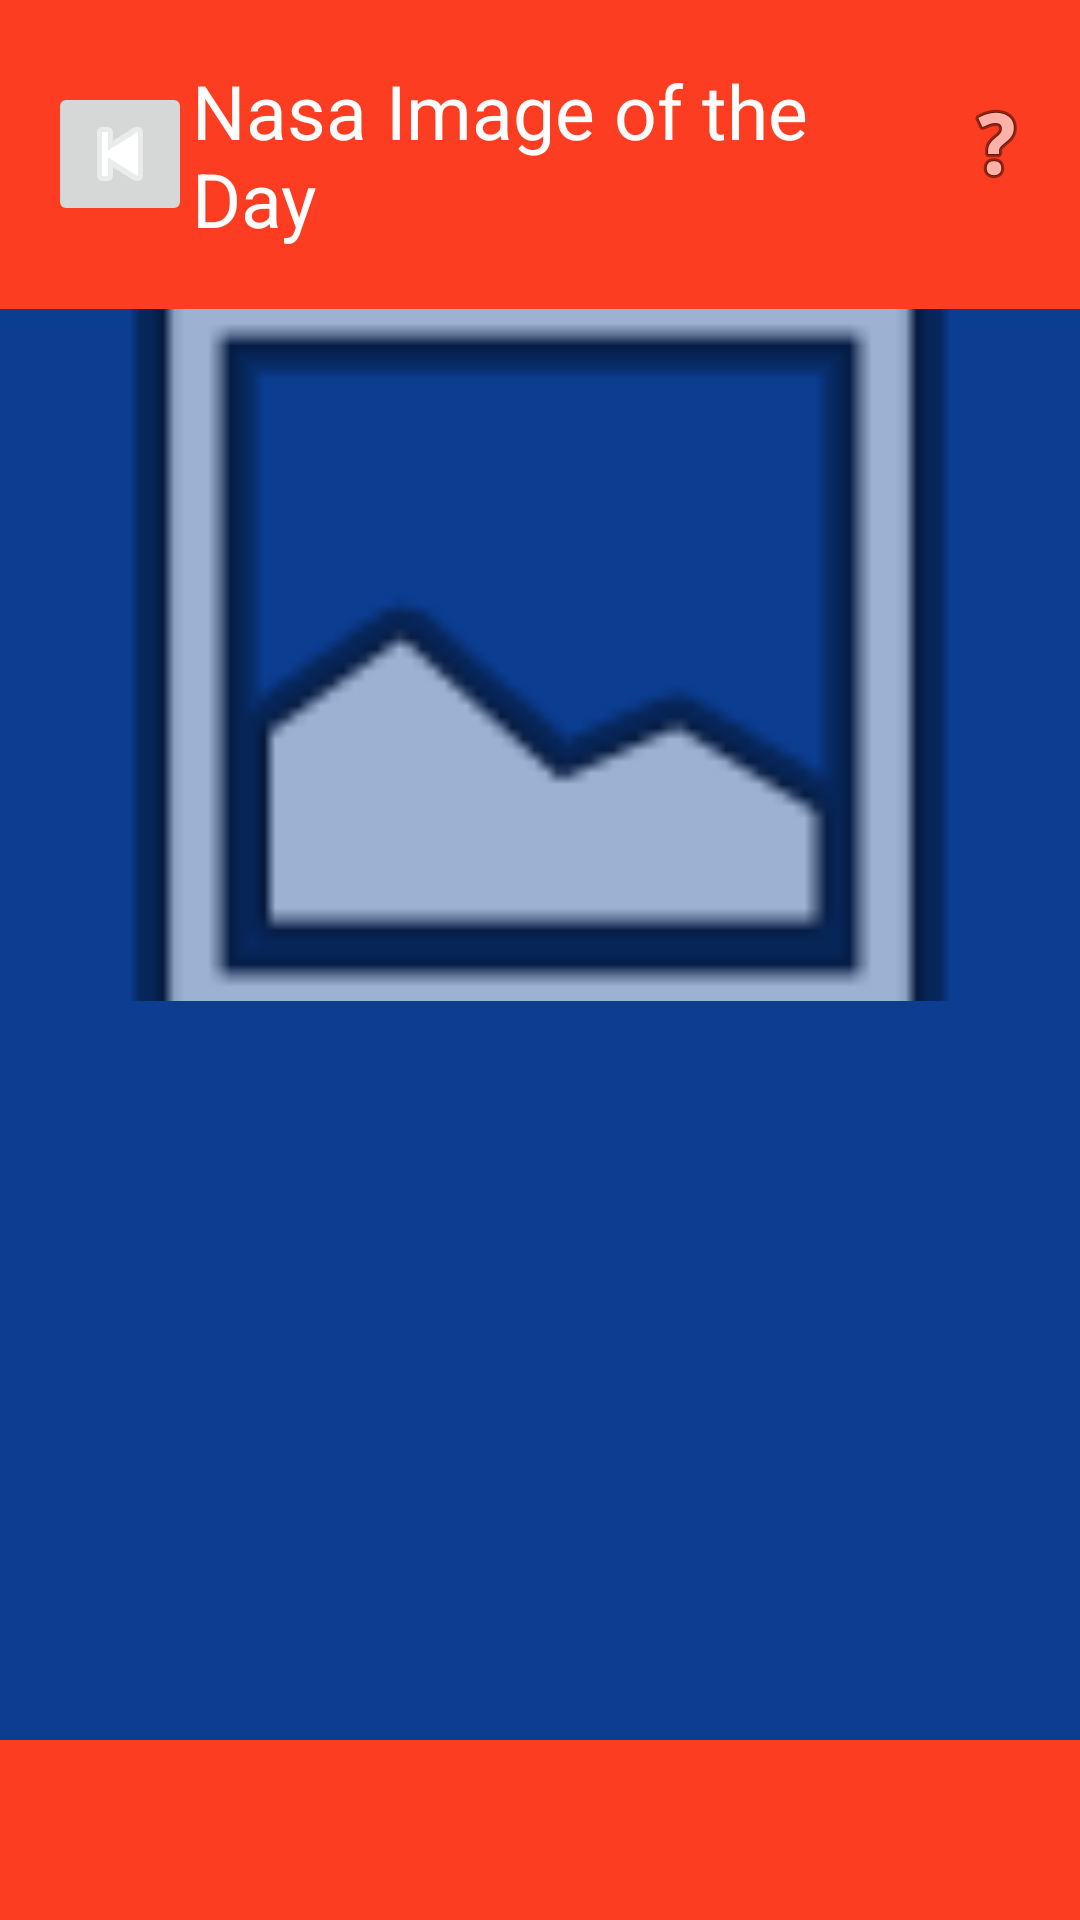

Named icons in this screenshot (1080px×1920px) and their centers, (x,y):
Back: (120,154)
